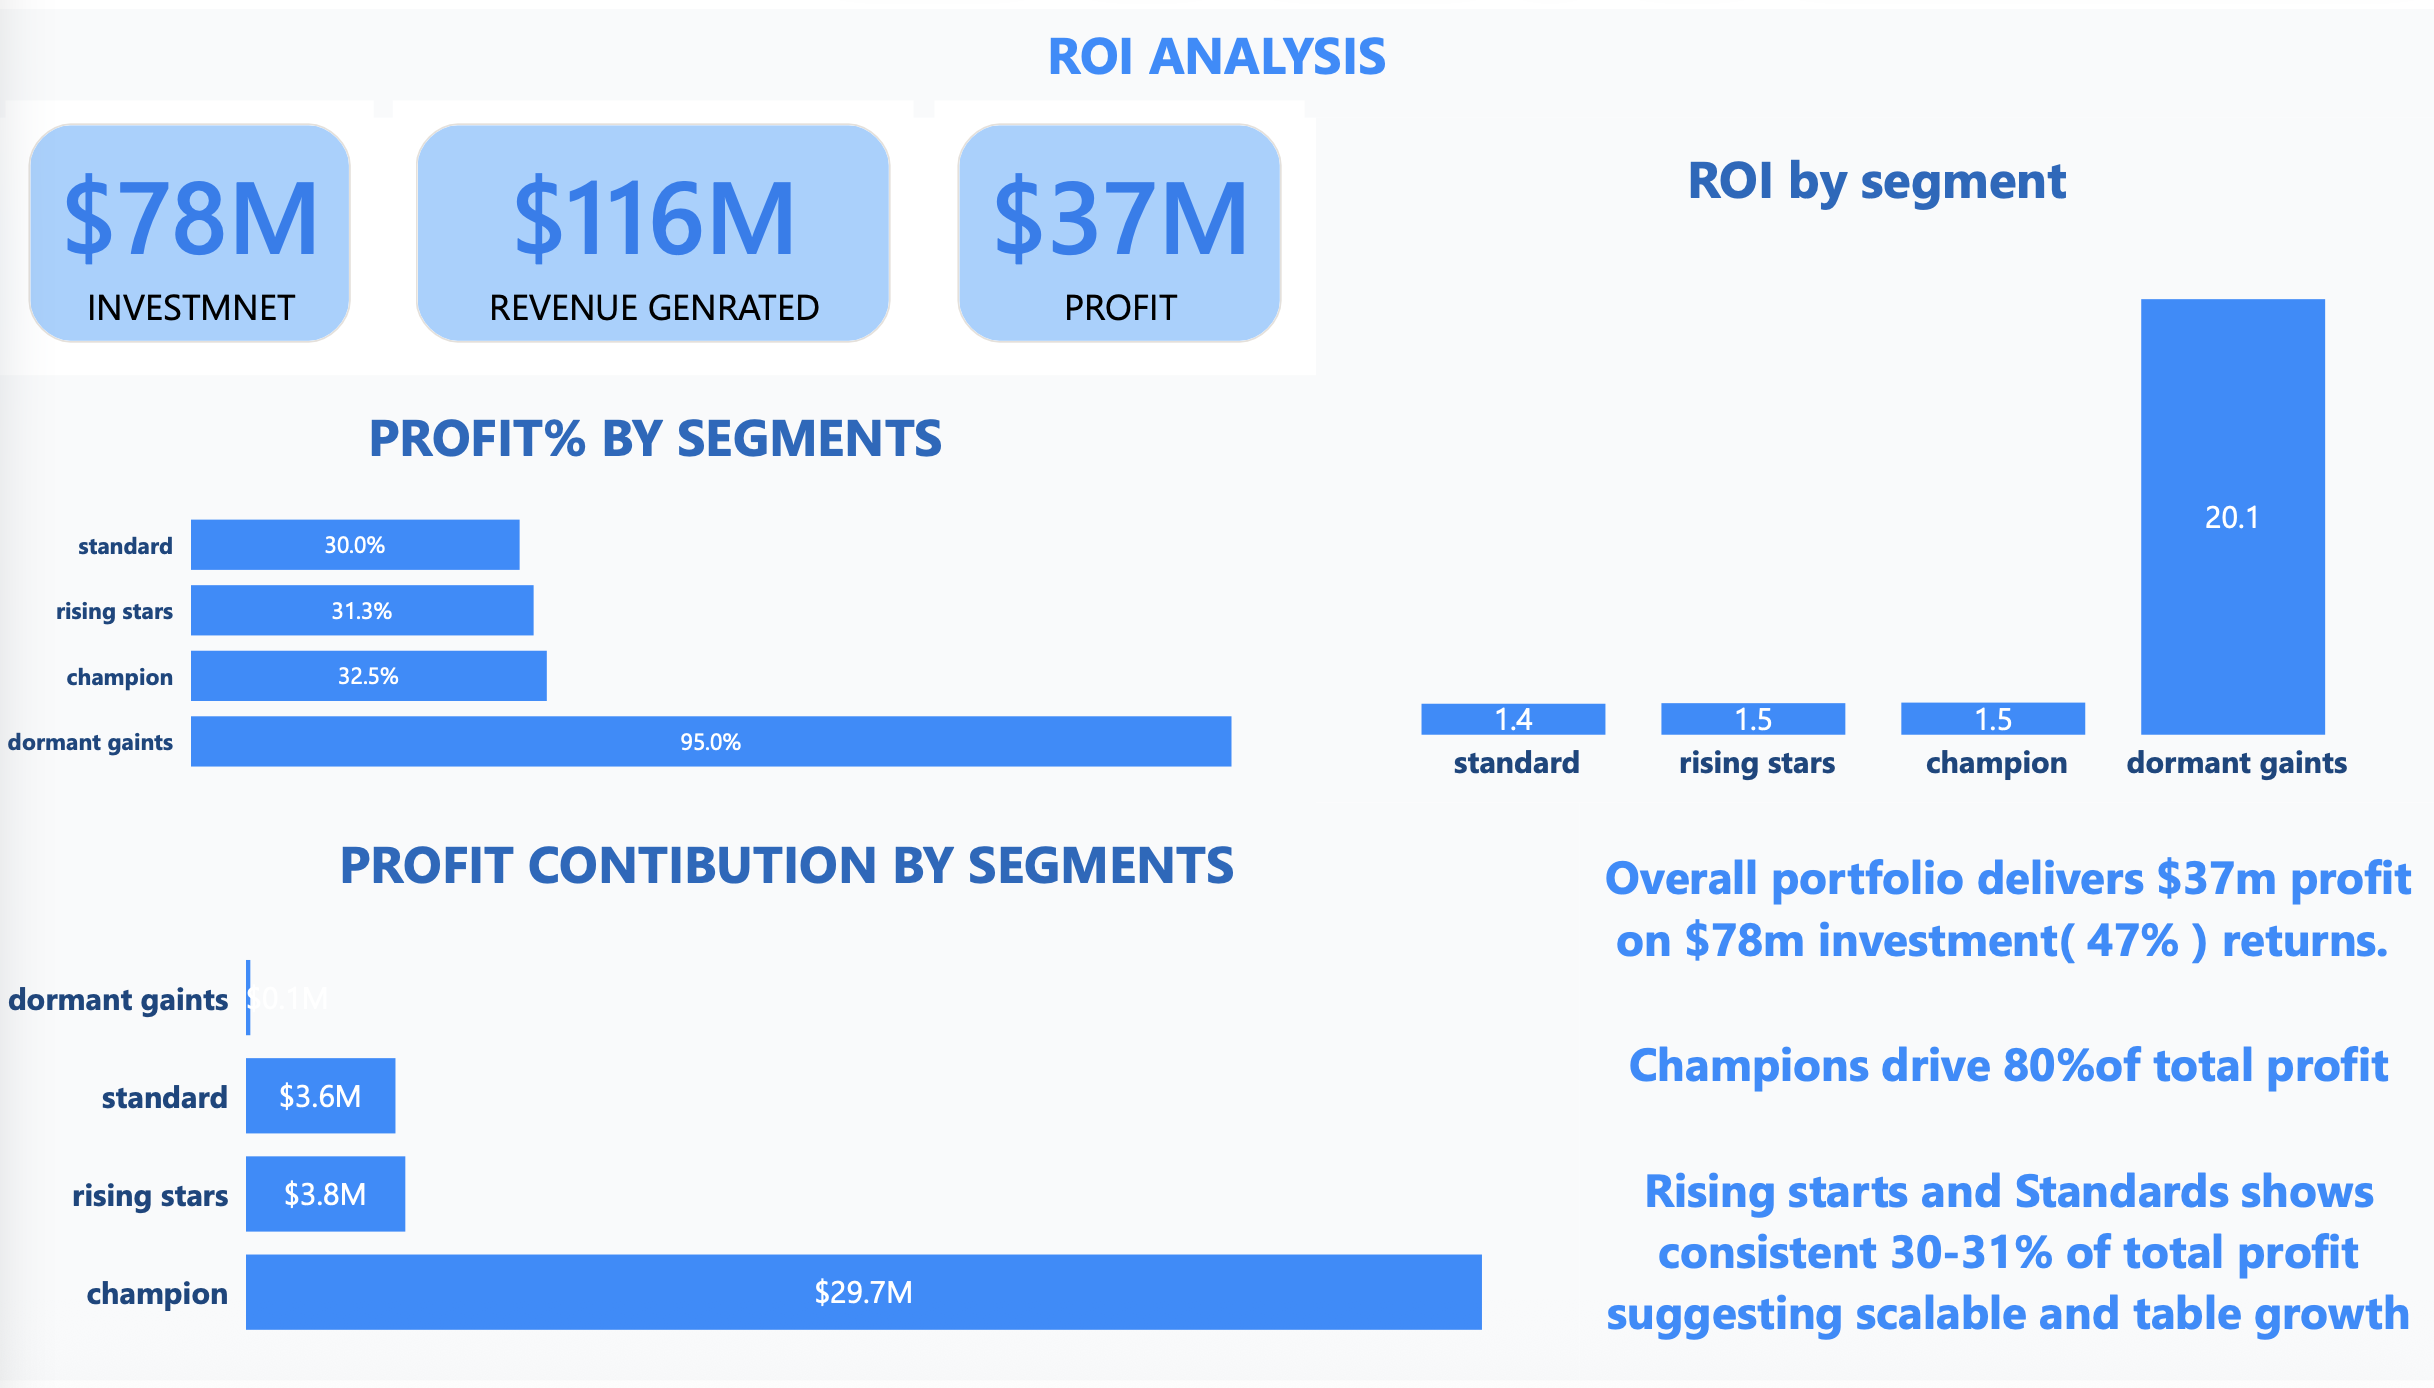

The page's visual inventory and layout, read from the dashboard file:
{"tool":"powerbi","page":{"name":"ROI ANALYSIS","canvas":[1280,720],"ordinal":2},"visuals":[{"type":"textbox","box":[0,0,1280.3,57.4],"z":0},{"type":"barChart","title":"PROFIT CONTIBUTION BY SEGMENTS","fields":{"Category":["provider_segmentated_final.segment"],"Y":["provider_segmentated_final.profit made"]},"box":[0,416.4,829.5,303.3],"z":1000},{"type":"clusteredBarChart","title":"PROFIT% BY SEGMENTS","fields":{"Category":["provider_segmentated_final.segment"],"Y":["provider_segmentated_final.profit%"]},"box":[0,191.8,691.8,224.6],"z":2000},{"type":"cardVisual","fields":{"Data":["provider_segmentated_final.INVESTEMNET"]},"box":[0,42.6,203.3,149.2],"z":3000},{"type":"cardVisual","fields":{"Data":["provider_segmentated_final.REVENUE GENRATED"]},"box":[203.3,42.6,283.6,149.2],"z":4000},{"type":"cardVisual","fields":{"Data":["provider_segmentated_final.profit made"]},"box":[486.9,42.6,204.9,149.2],"z":5000},{"type":"textbox","box":[829.5,416.4,450.8,303.3],"z":6000},{"type":"columnChart","fields":{"Y":["provider_segmentated_final.ROI"],"Category":["provider_segmentated_final.segment"]},"box":[691.8,57.4,588.5,359],"z":7000}]}

Visuals, with their boxes in screenshot pixels (x1, y1, x2, y2), scaled from the page's 1280x720 canvas onto the 2434x1388 screenshot:
textbox: l=0, t=0, r=2433, b=111
"PROFIT CONTIBUTION BY SEGMENTS" barChart: l=0, t=803, r=1577, b=1387
"PROFIT% BY SEGMENTS" clusteredBarChart: l=0, t=370, r=1316, b=803
cardVisual - provider_segmentated_final.INVESTEMNET: l=0, t=82, r=387, b=370
cardVisual - provider_segmentated_final.REVENUE GENRATED: l=387, t=82, r=926, b=370
cardVisual - provider_segmentated_final.profit made: l=926, t=82, r=1316, b=370
textbox: l=1577, t=803, r=2433, b=1387
columnChart - provider_segmentated_final.ROI x provider_segmentated_final.segment: l=1316, t=111, r=2433, b=803
